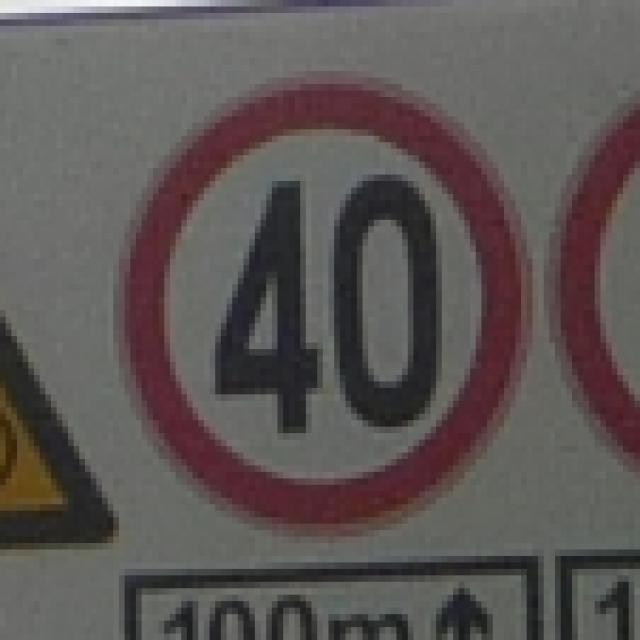Speed: (104, 75, 535, 535)
